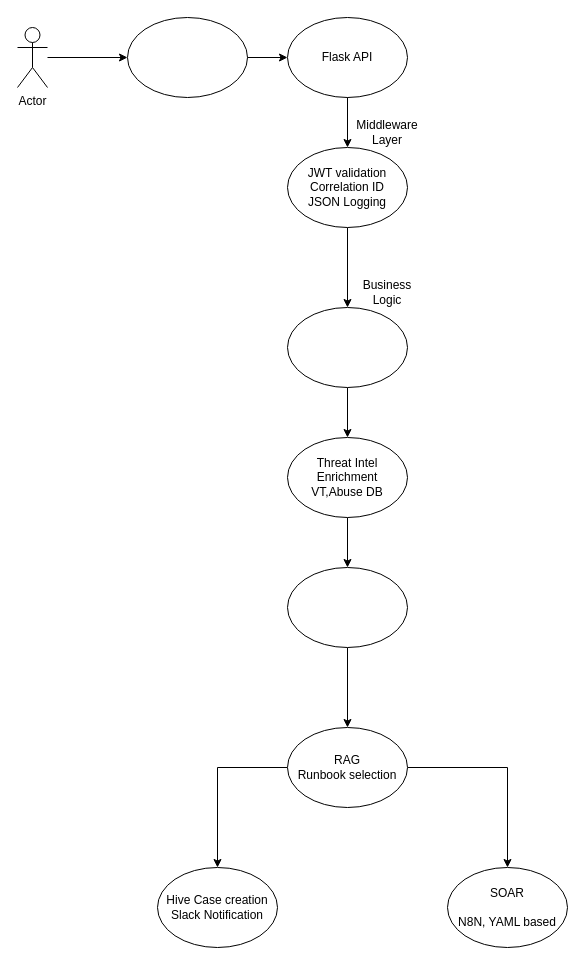
The diagram is 585 pixels wide and 965 high, and some of its shapes have lost their labels. The box of each missing label's shape, as (x1, y1, x2, y2) in pixels:
AI Service Gemini: (286, 566, 408, 648)
IOC Extraction Alert Classification: (286, 306, 408, 388)
Okta Auth: (126, 16, 248, 98)
